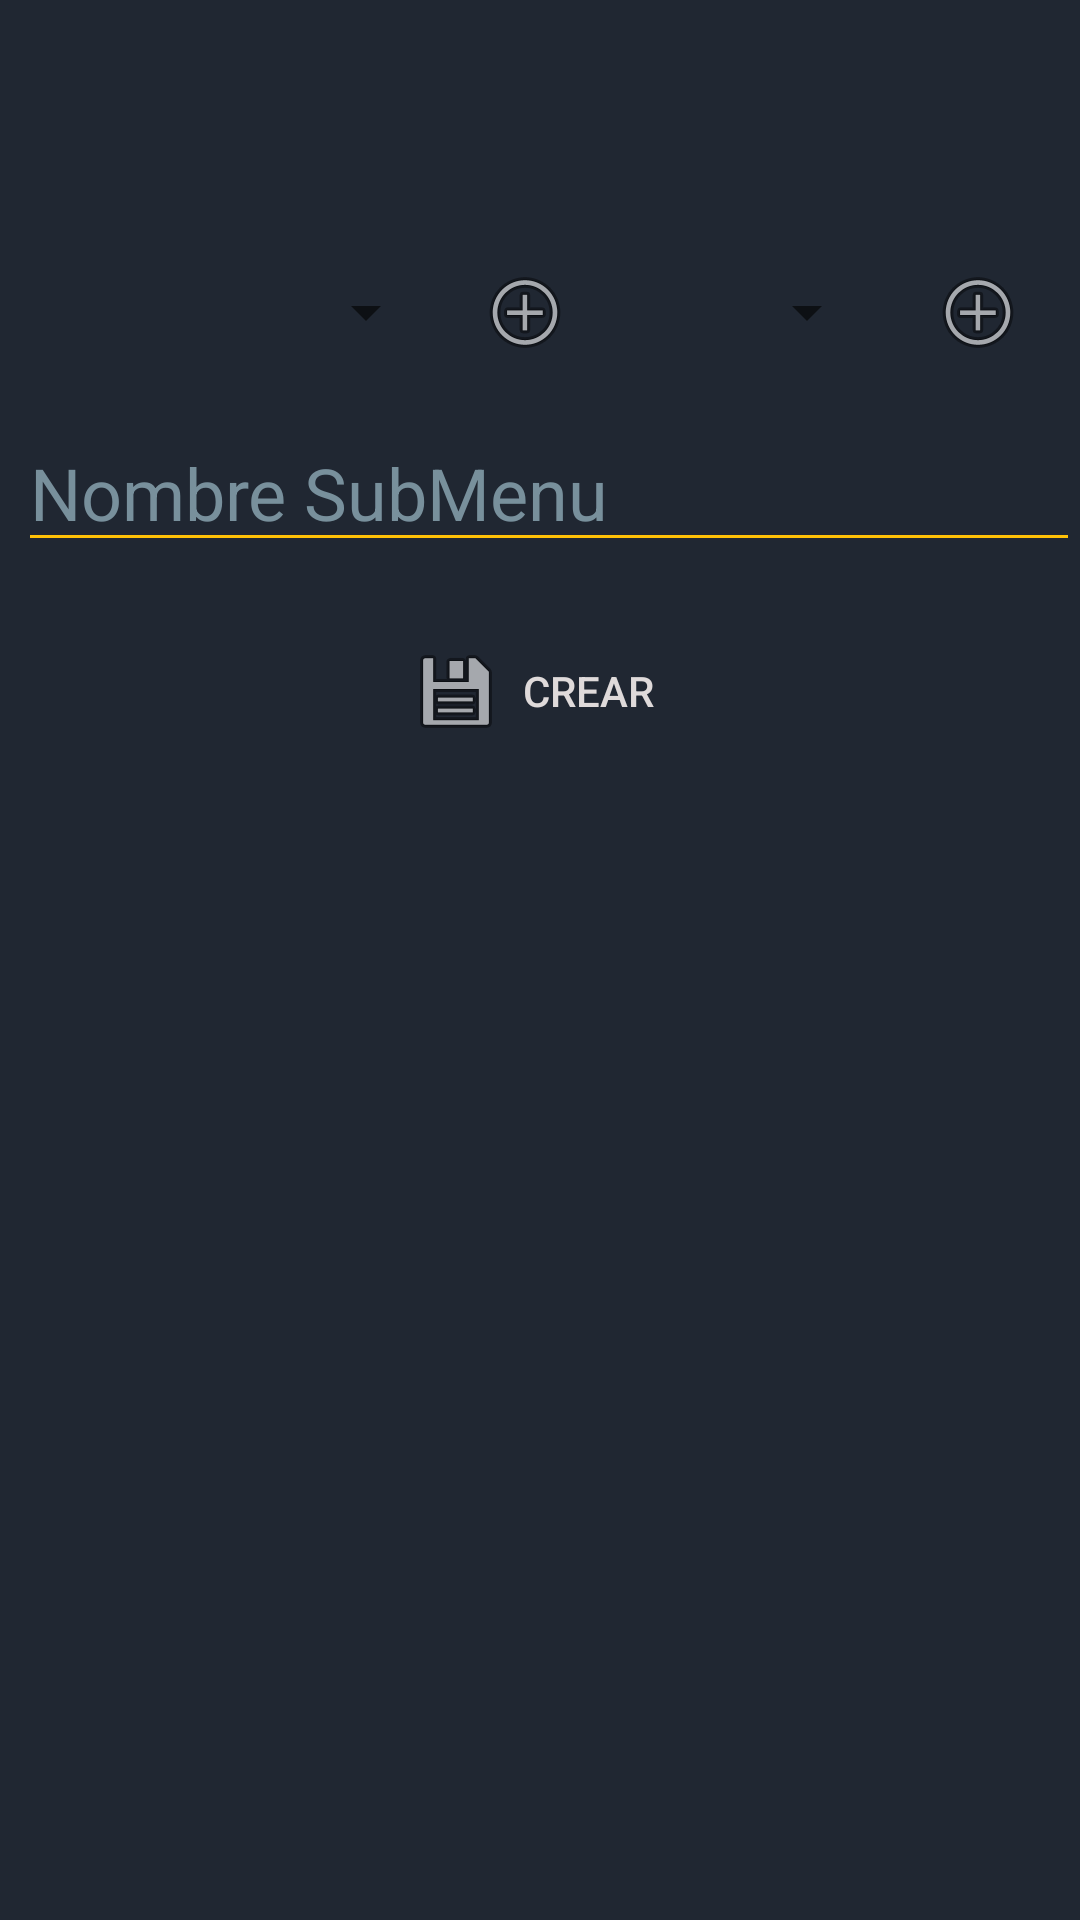

Locate icon controls on the screen. Image size 1080 × 1920, boxes as bbox=[x1, y1, x2, y2].
Agregar Menu: bbox=[492, 279, 558, 346]
Agregar Permiso: bbox=[945, 279, 1011, 346]
